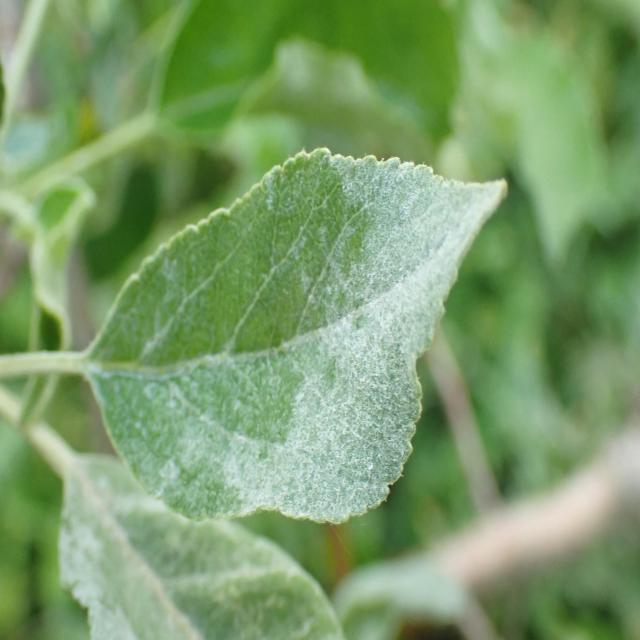Powdery_mildew: (79, 138, 514, 538), (42, 425, 345, 640)
